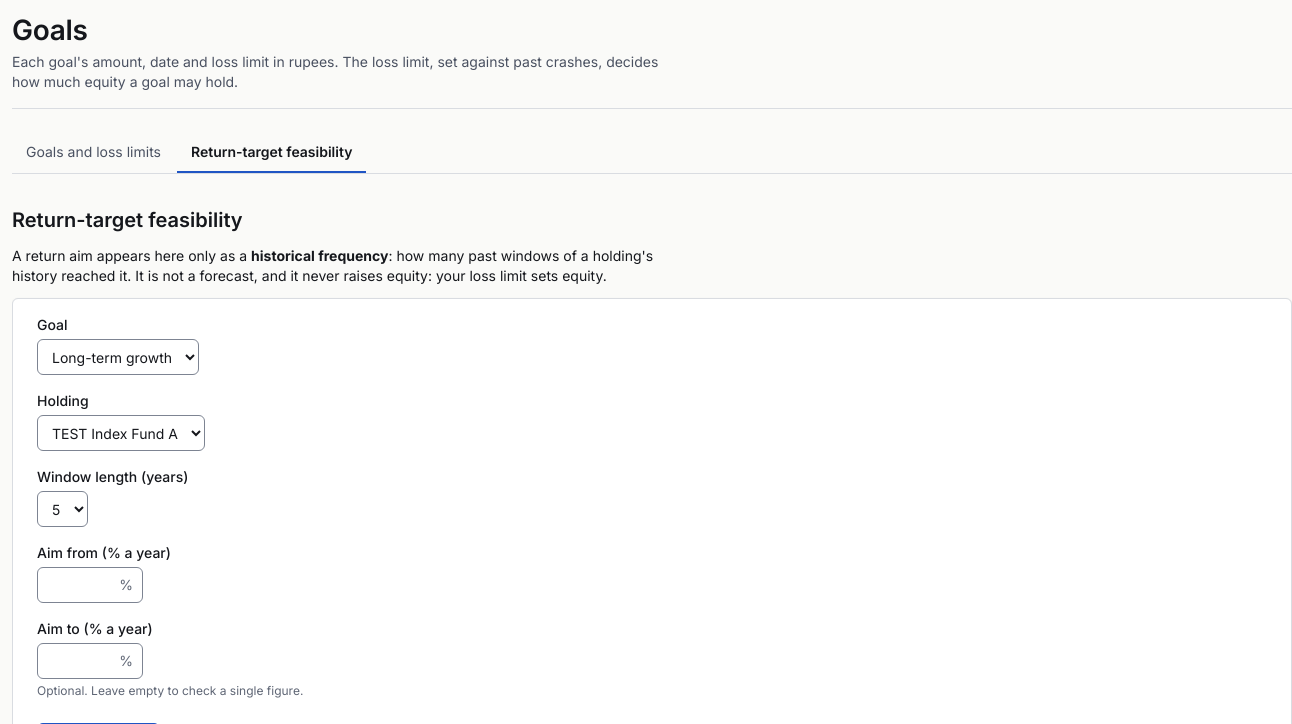
Test: Goals page (C02) › the feasibility view abstains for a goal with no mapped holding
Expected: the heading "Return-target feasibility" is shown, [12, 208, 243, 232]
Step 1. Select "Home deposit" in the dropdown labelled "Goal" → (118,357), box [37, 339, 199, 375]
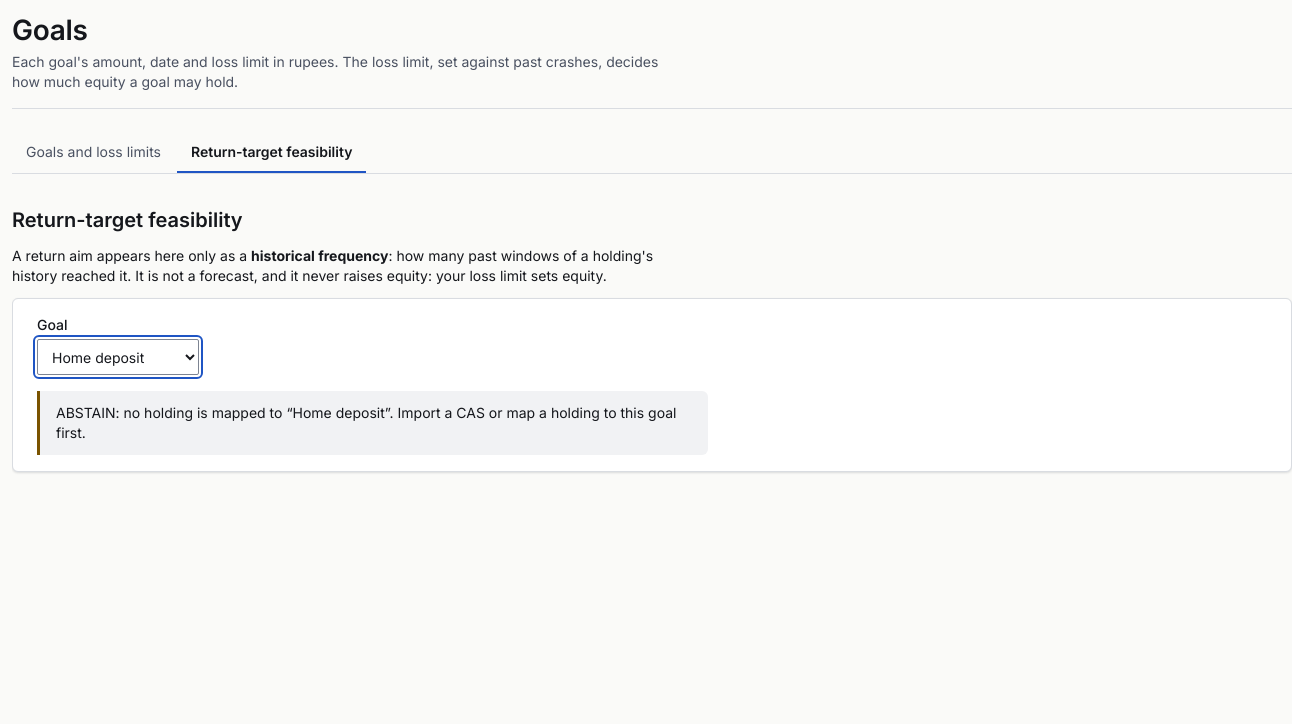
Now the text "ABSTAIN: no holding is mapped to “Home deposit”" is shown, box [37, 391, 708, 455]
